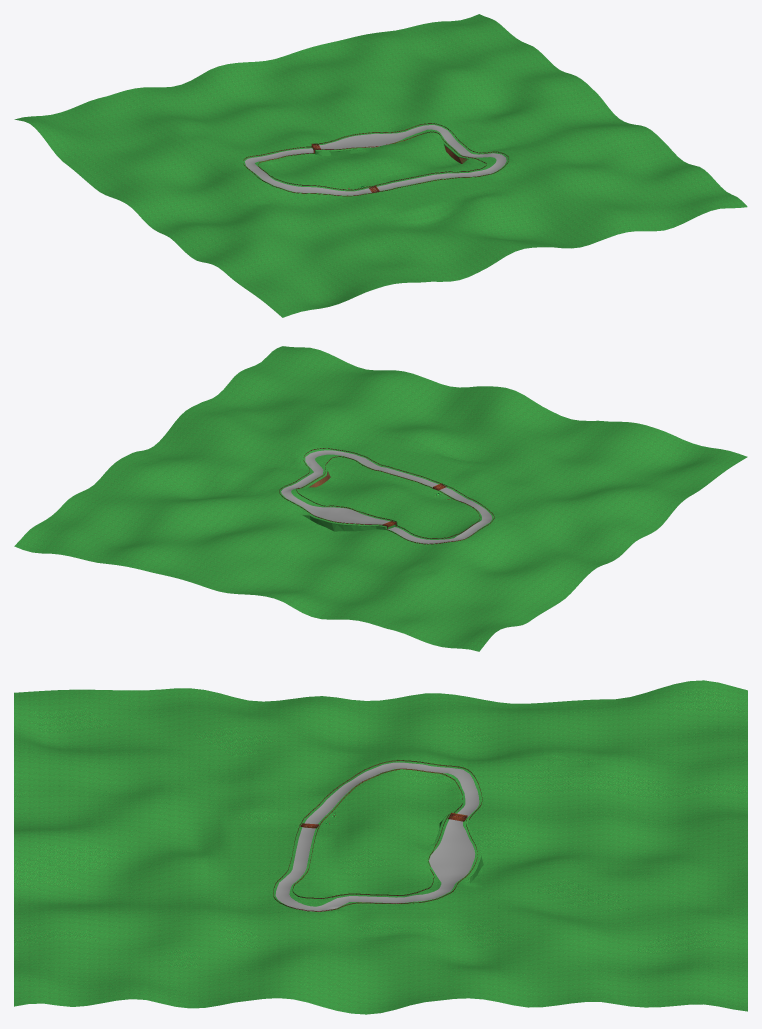
The model's file is Sjin'sFarmTest3.fbx.
3 views of the same model, one above another, from view 1: azimuth 30°, elevation 25°; view 2: azimuth 150°, elevation 25°; view 3: azimuth 270°, elevation 25° (orthographic). The views are drawn at different scales.
Visible parts, largest first — view 1: Terrain, Road, Railing, Railing2; view 2: Terrain, Road, Railing; view 3: Terrain, Road, Railing, Railing2.
Boxes of the visible parts, bbox=[...] form: Terrain: bbox=[14, 14, 747, 317]; Road: bbox=[244, 125, 506, 195]; Railing: bbox=[243, 123, 508, 196]; Railing2: bbox=[258, 131, 486, 190]; Terrain: bbox=[14, 346, 747, 651]; Road: bbox=[281, 450, 491, 543]; Railing: bbox=[279, 448, 494, 544]; Terrain: bbox=[14, 680, 747, 1014]; Road: bbox=[275, 762, 479, 911]; Railing: bbox=[273, 760, 482, 911]; Railing2: bbox=[292, 768, 462, 898].
Size of what is drawn, in the model's own units: 13464 by 553 by 13464.
